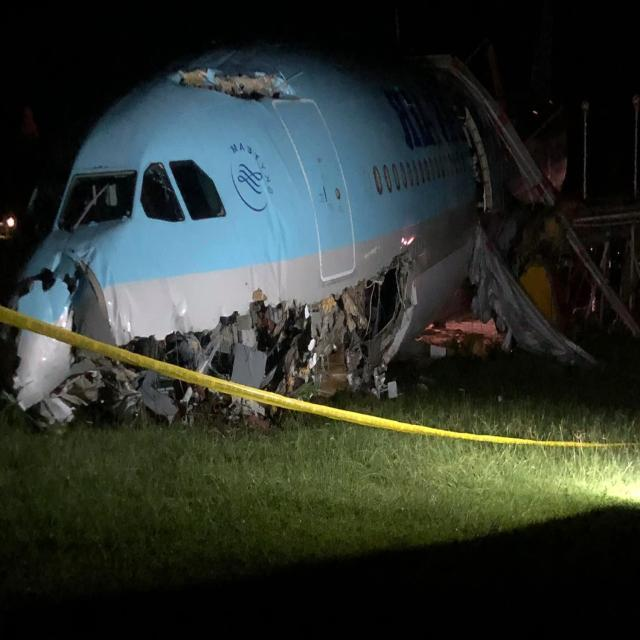crack: (172, 62, 303, 110)
